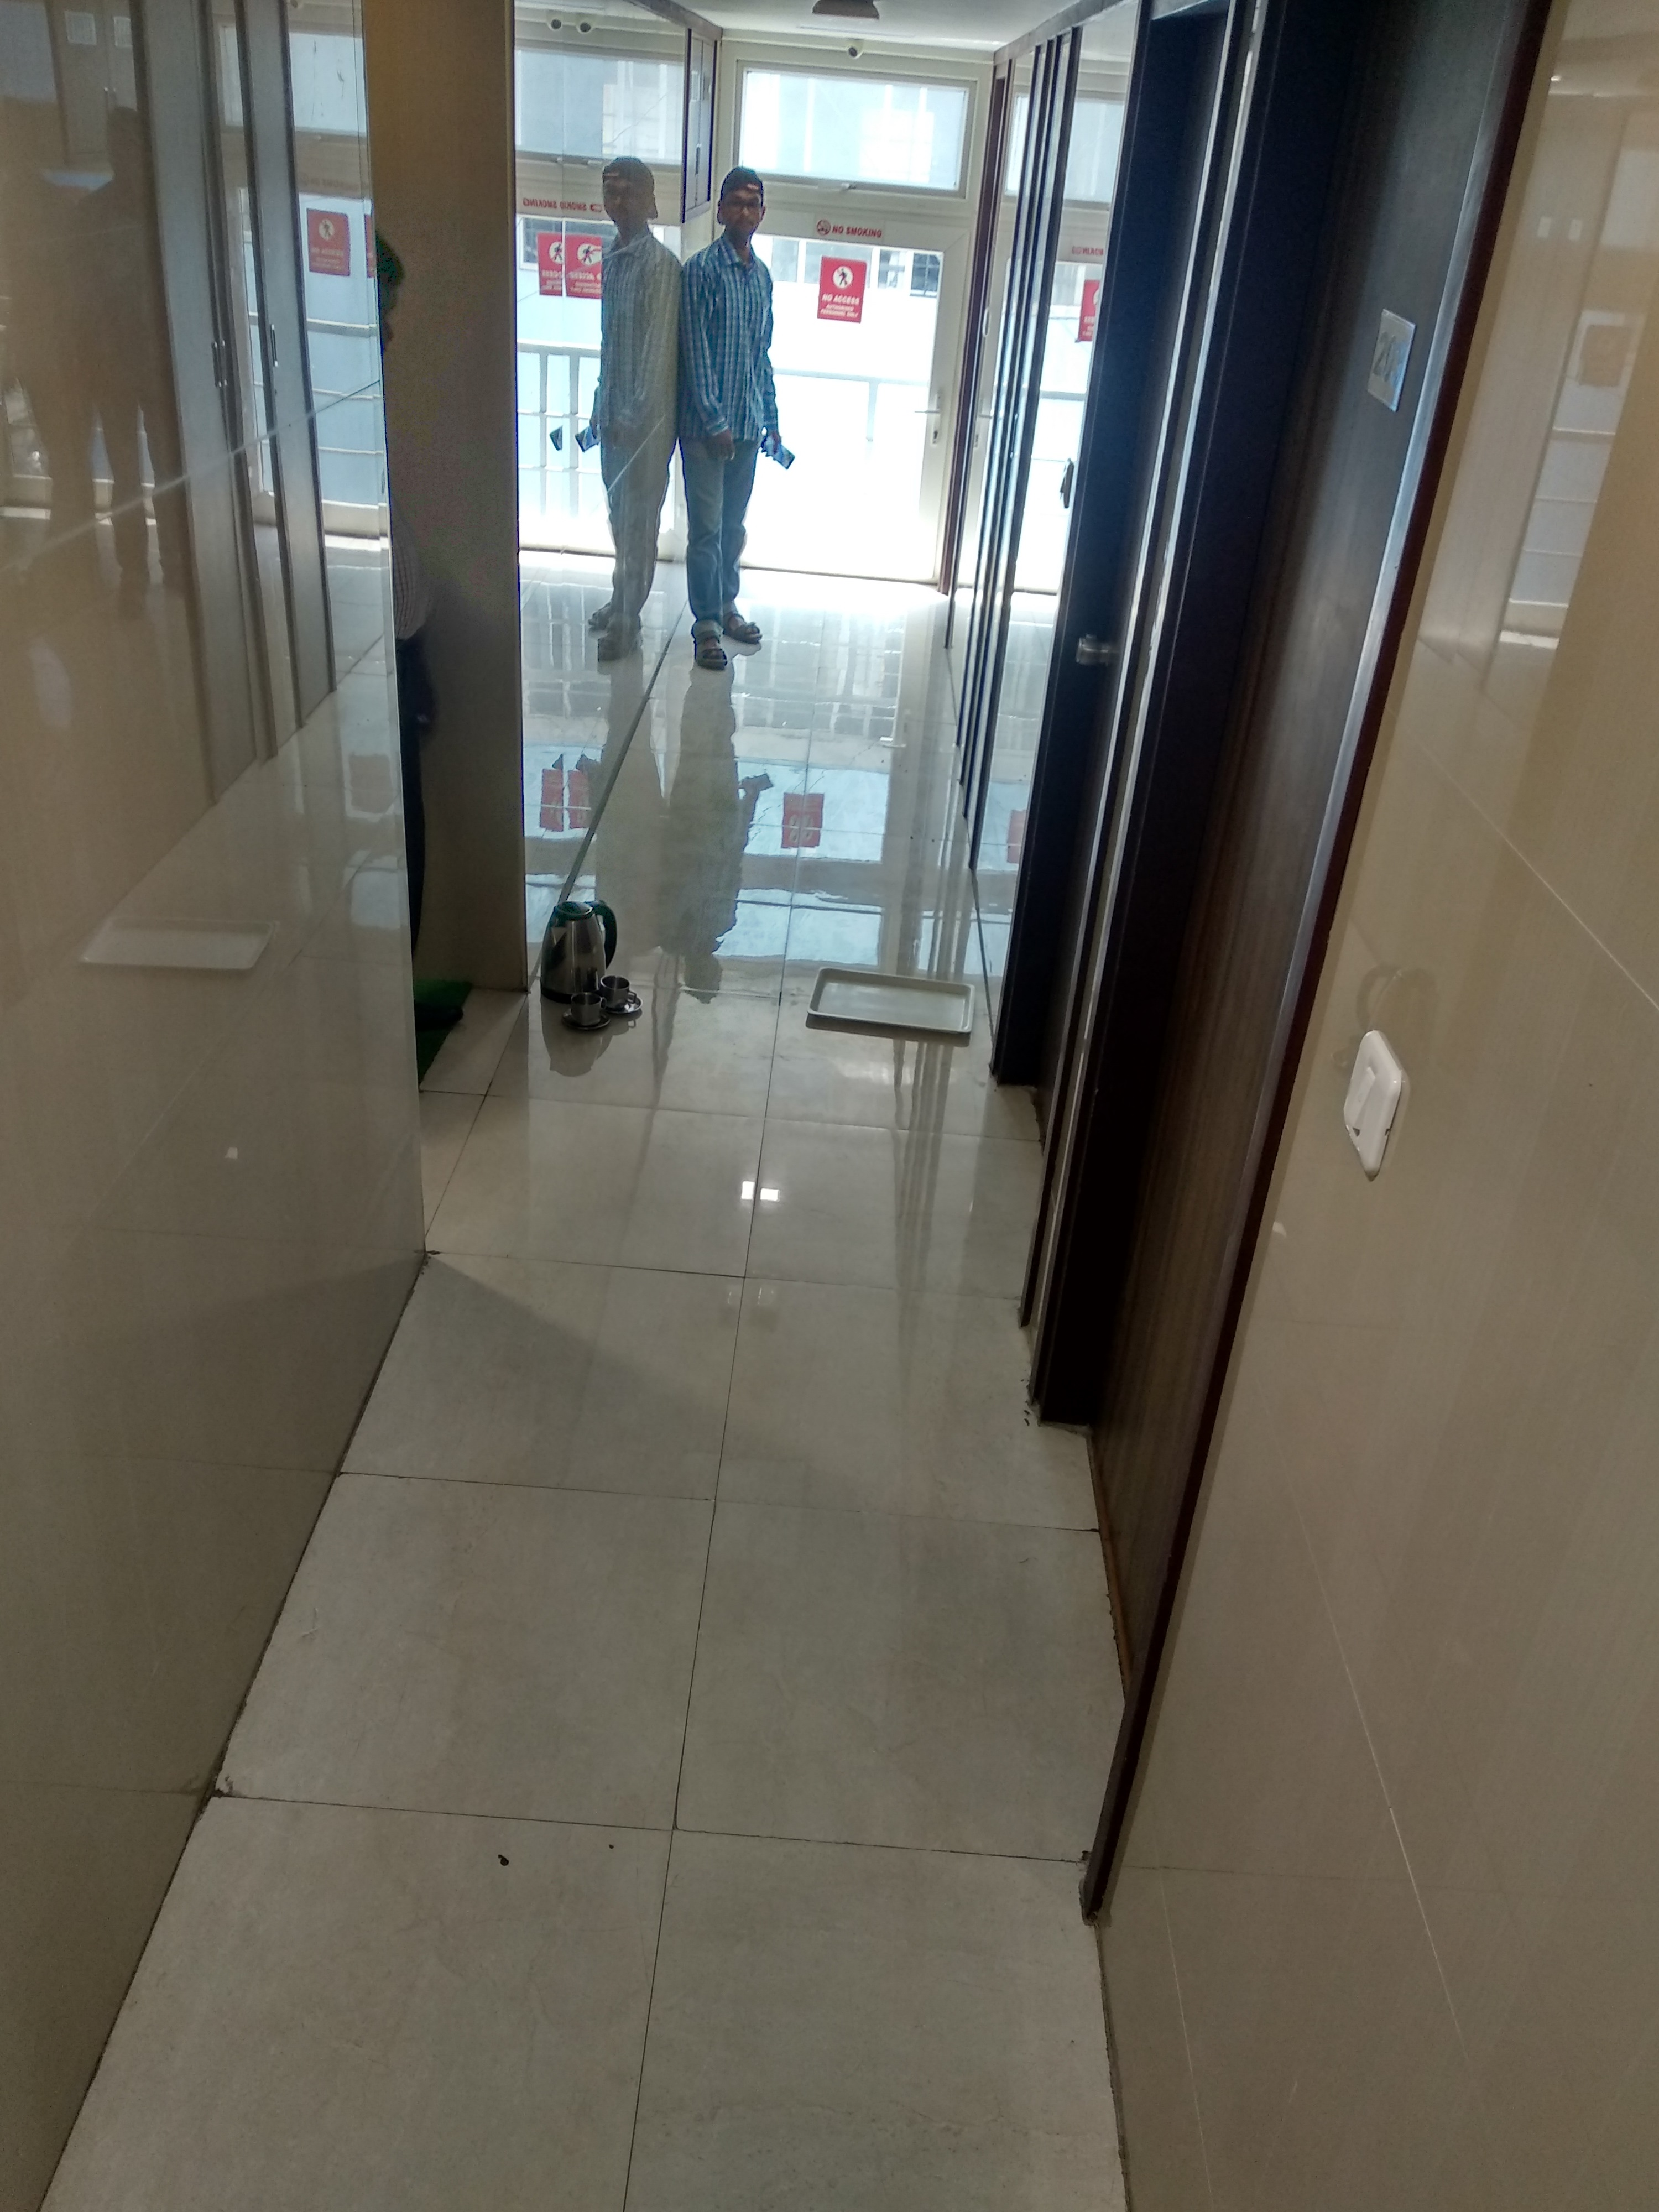CUP: (570, 991, 606, 1028), (601, 972, 636, 1010)
JUG: (540, 900, 615, 991)
